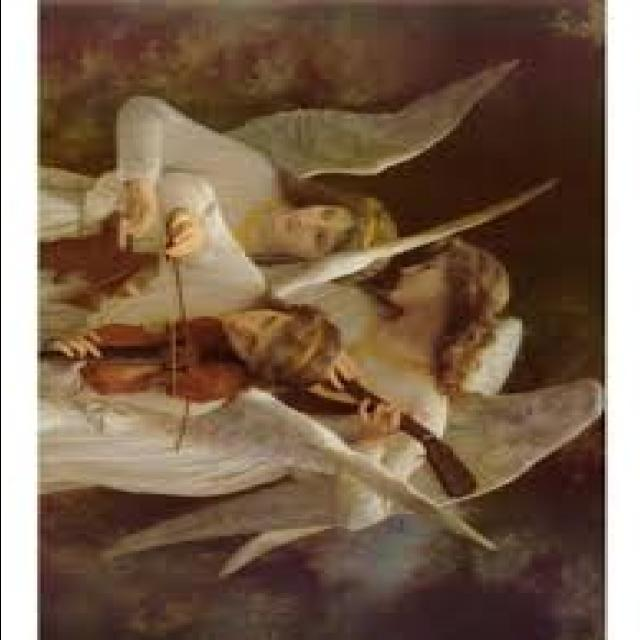angel: (21, 184, 363, 450)
